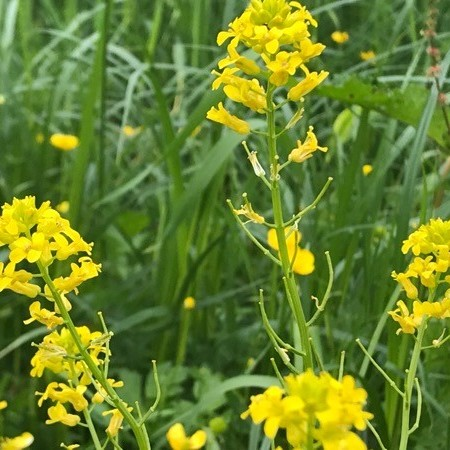obstacle: (201, 15, 377, 286), (2, 186, 165, 398)
